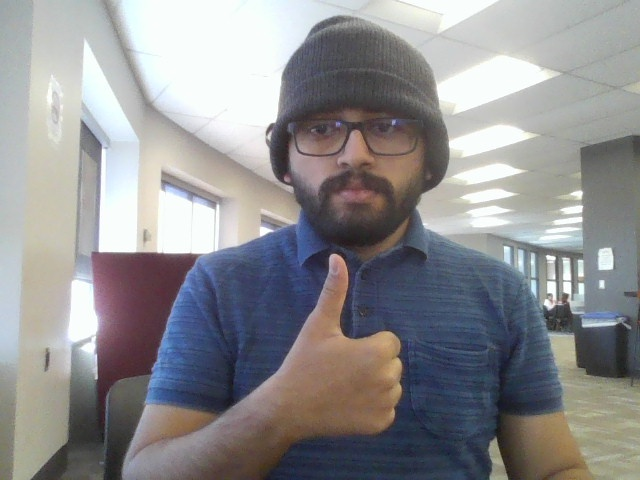start: (283, 247, 412, 458)
